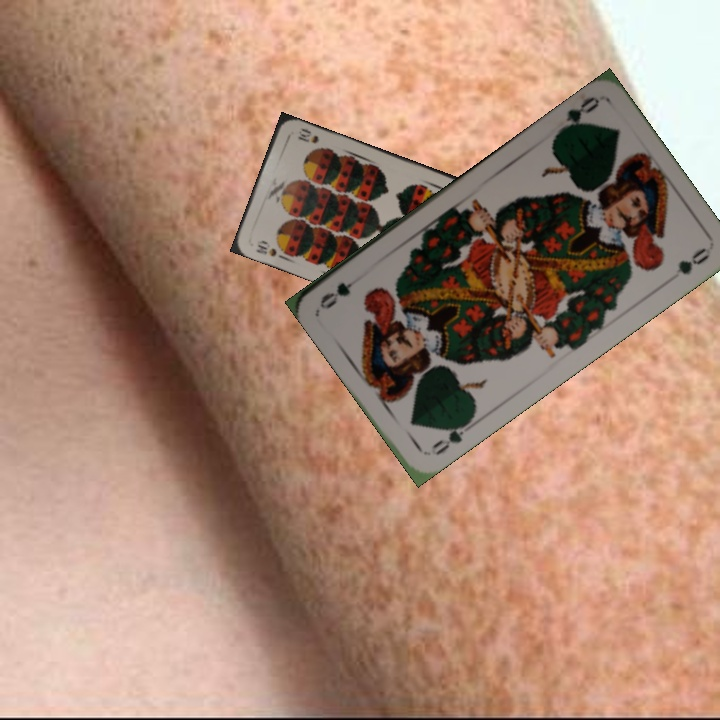GO: (552, 92, 602, 138), (428, 417, 474, 458)
S10: (252, 240, 287, 262)
